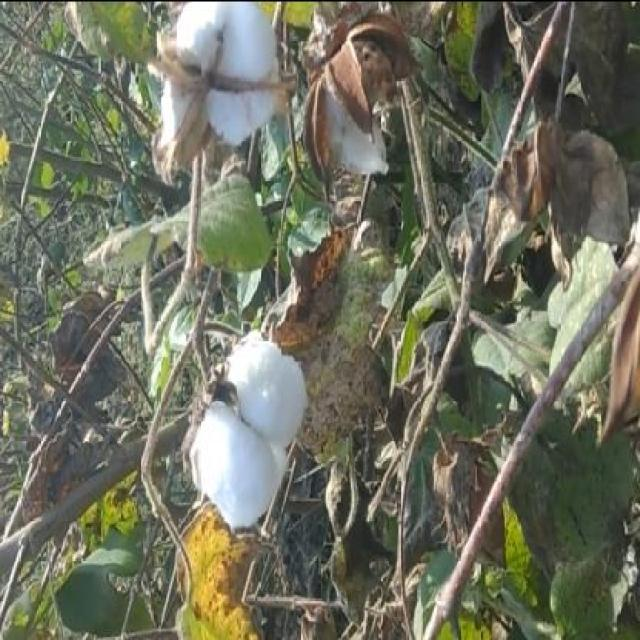cotton_ready: (188, 298, 318, 550), (145, 1, 289, 185)
